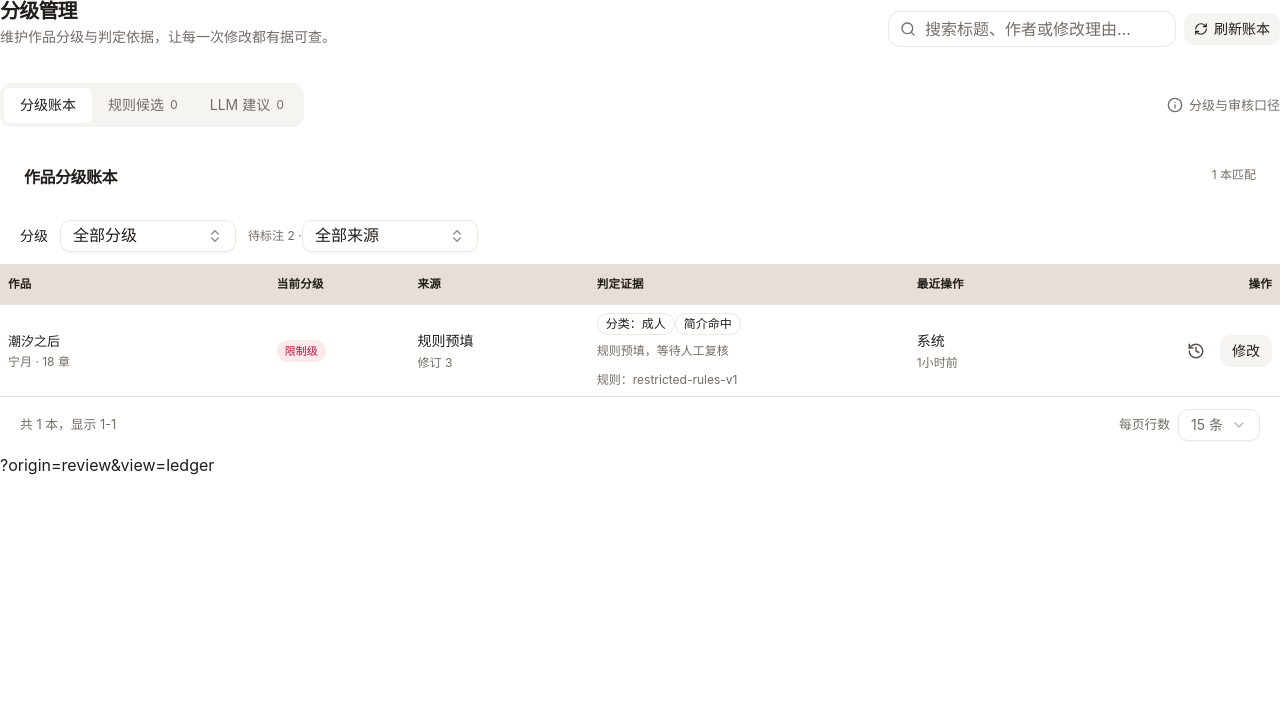
Test case: ContentRatingsTab › 人工修改必须带理由，并携带当前 revision 提交
Click the button with aria-label "修改 潮汐之后 的分级": [1246, 351] box x1=1220 y1=335 x2=1272 y2=367
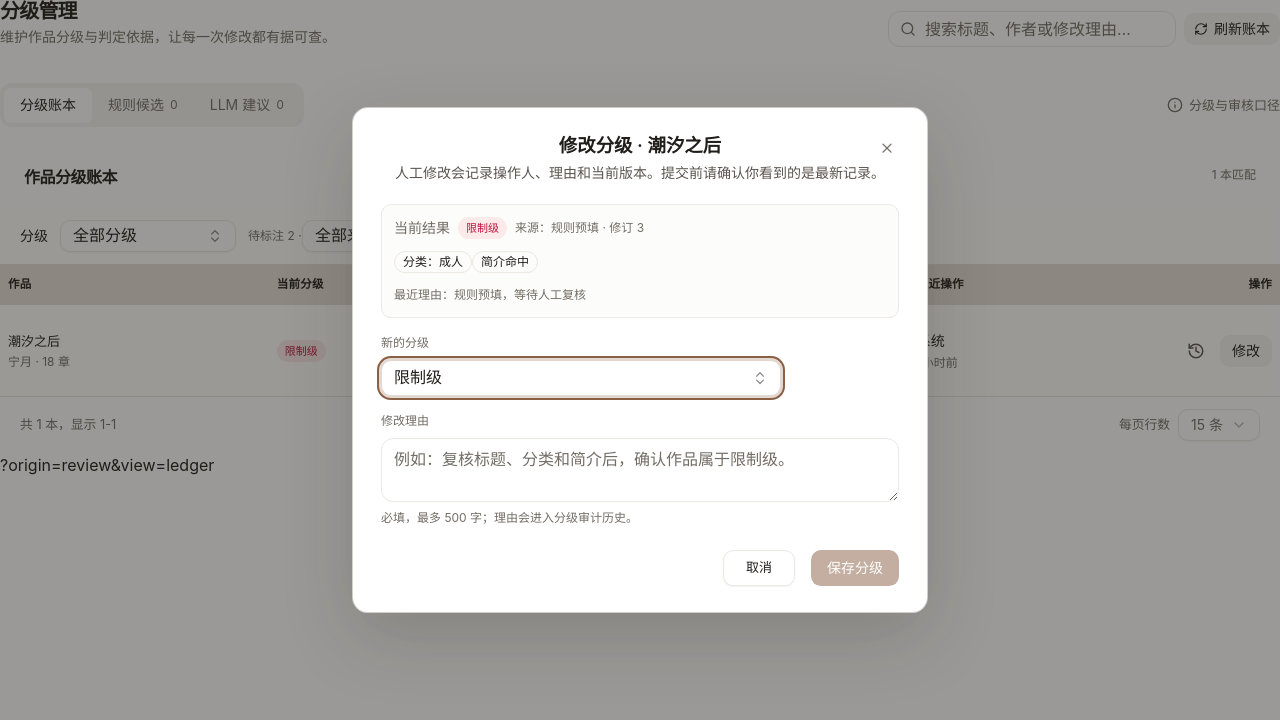
In the text box labelled "修改理由": [640, 470] box x1=381 y1=438 x2=899 y2=502, type "人工复核标题、分类和简介后确认"
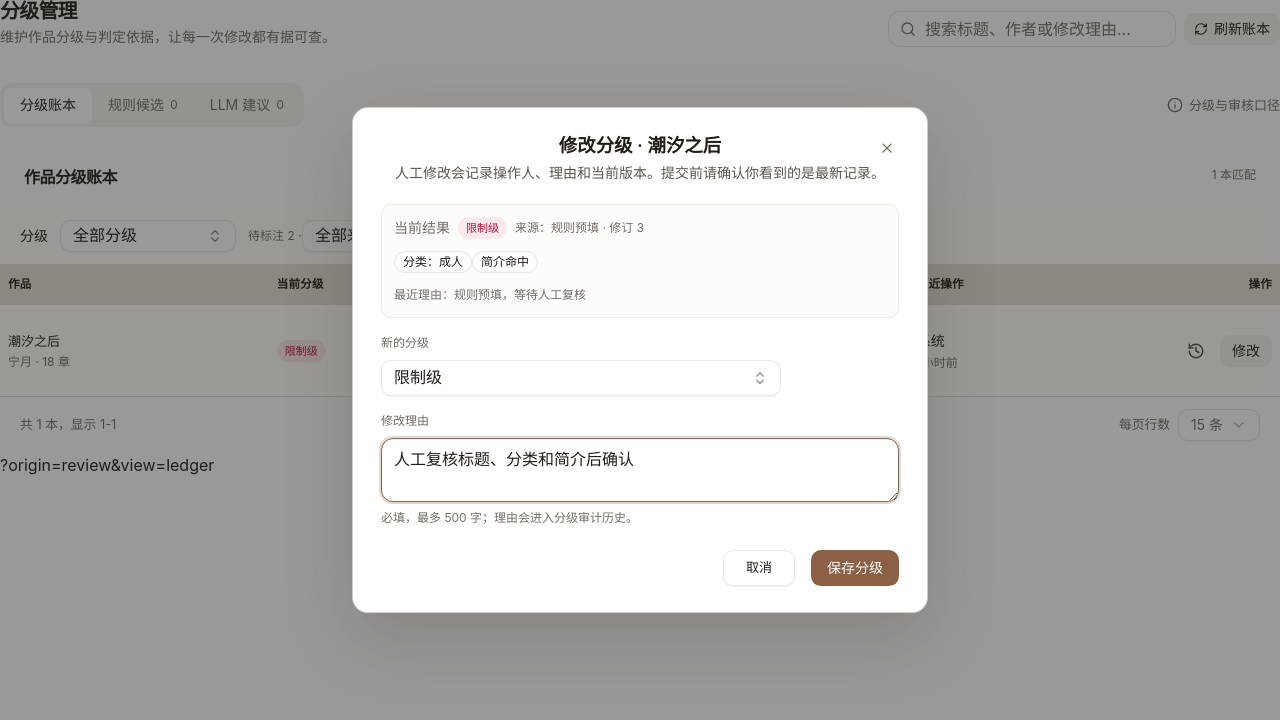
Click the button "保存分级": [855, 568] box x1=811 y1=550 x2=899 y2=586
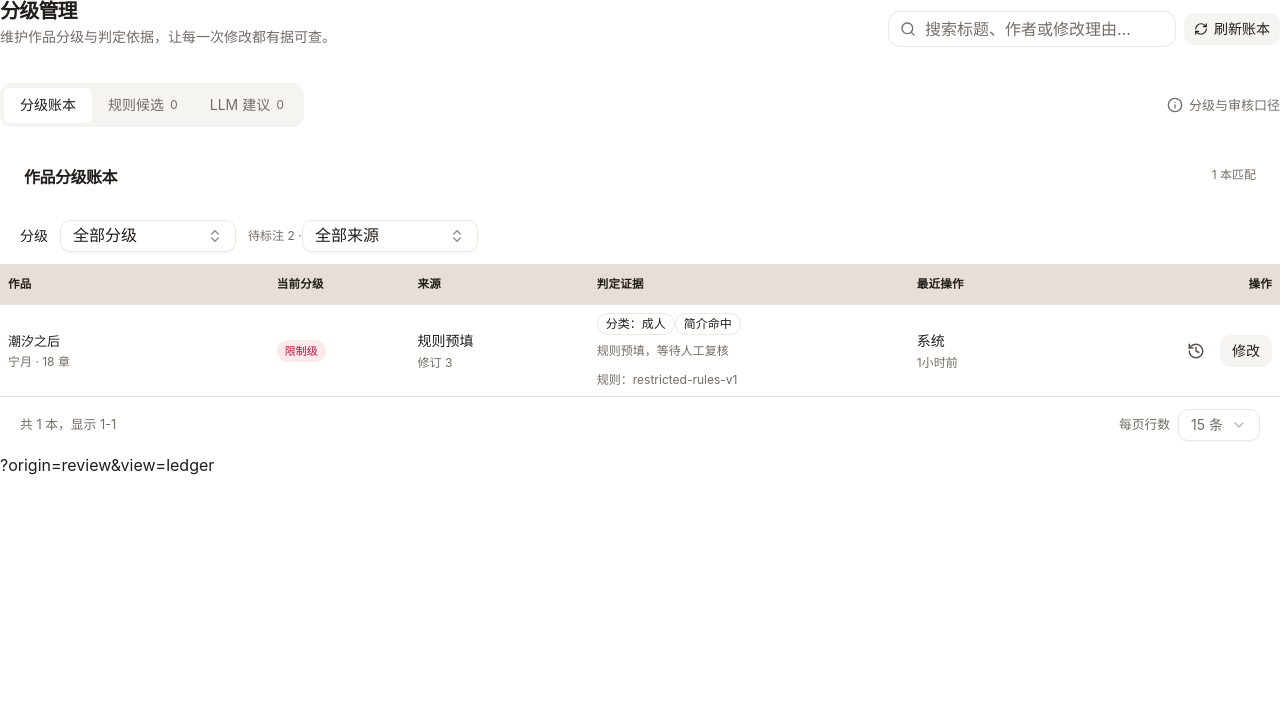
Result: the dialog is gone
